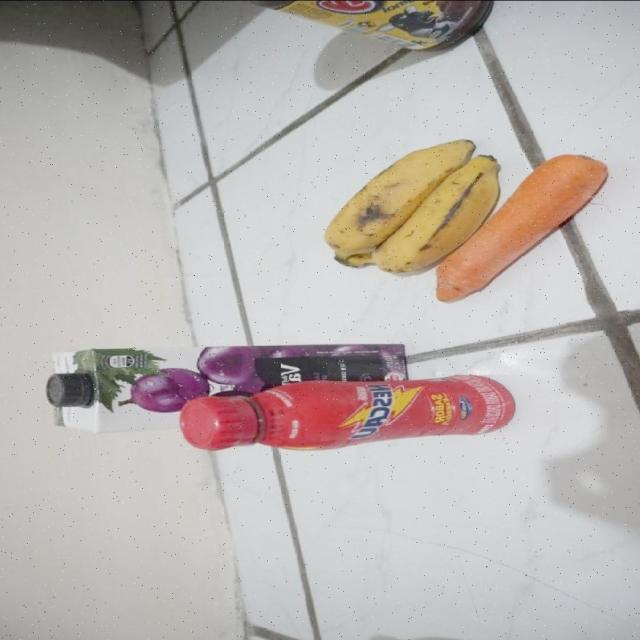Banana: (323, 136, 470, 272)
Carrot: (474, 136, 607, 270)
ChocolateMilk: (179, 374, 508, 449)
ChocolatePowder: (231, 0, 485, 50)
